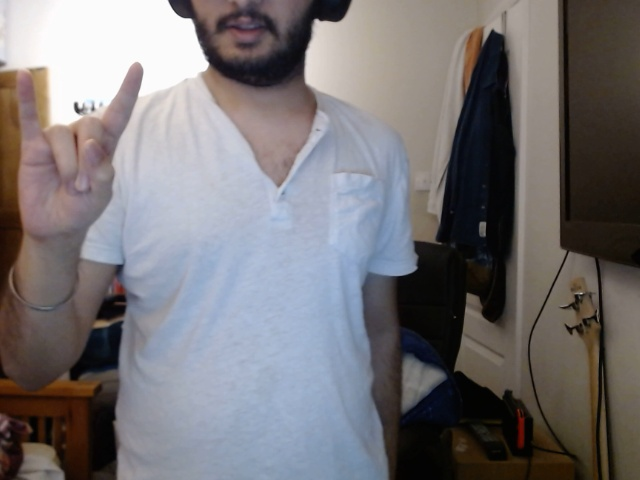Rock on: (1, 59, 149, 243)
